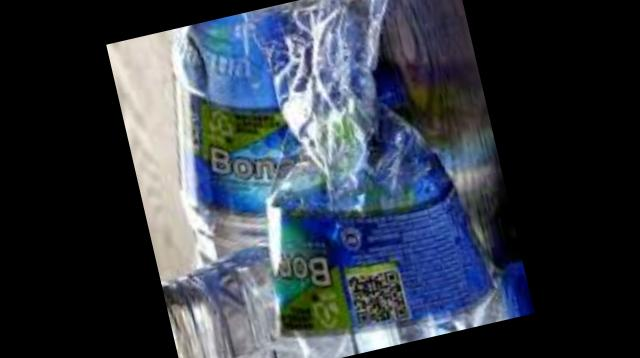plastic: (161, 0, 498, 358)
